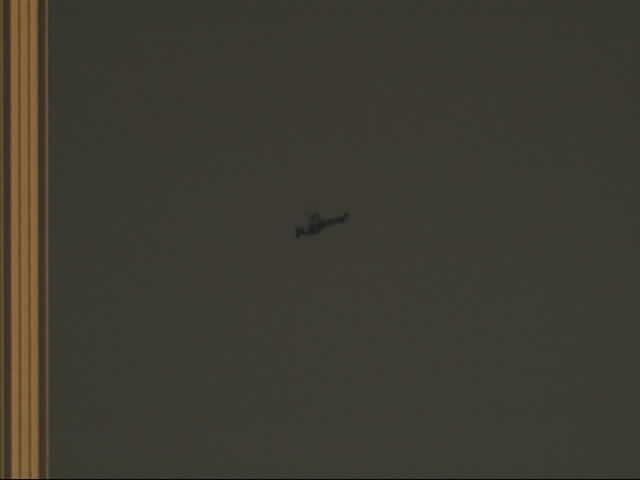PIQ PARTICLE: (292, 207, 354, 244)
